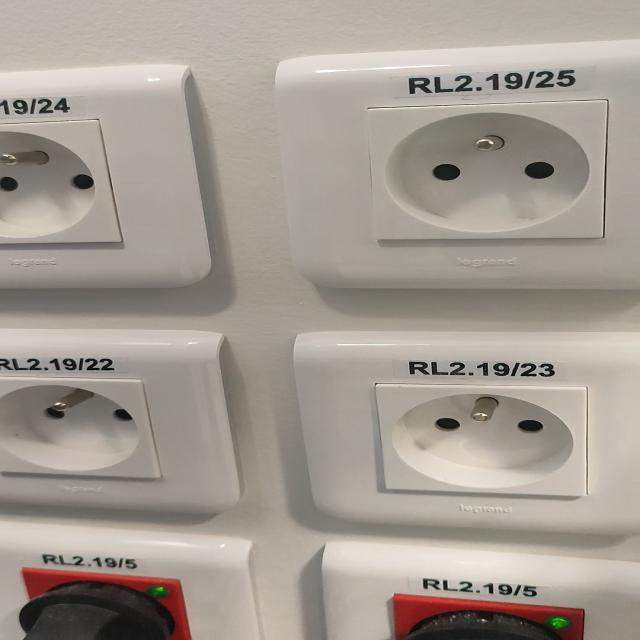house plug: (365, 99, 607, 240), (376, 382, 590, 497)
